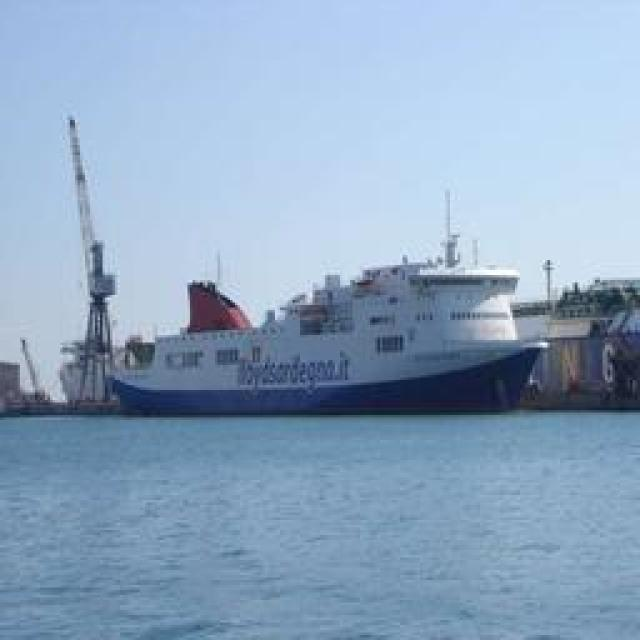CIV_Ship: (108, 188, 542, 420)
